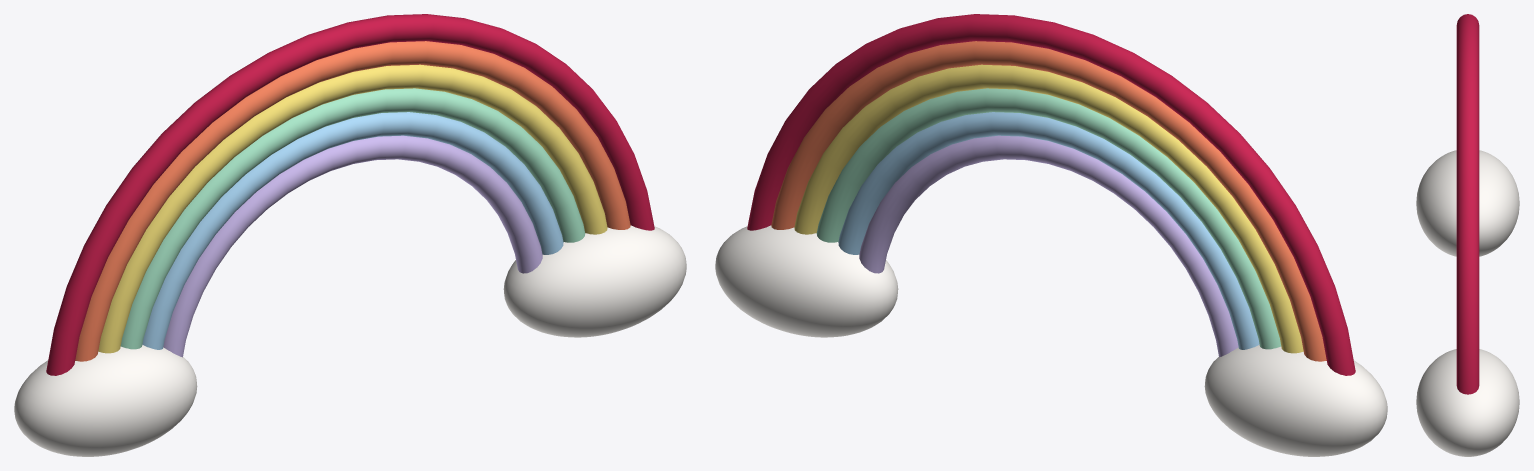
File: rainbow.glb
The picture shows the model from 3 angles, left to right: view 1: azimuth 30°, elevation 25°; view 2: azimuth 150°, elevation 25°; view 3: azimuth 270°, elevation 25°; orthographic projection. The views are drawn at different scales.
Visible parts, largest first — view 1: rainbow; view 2: rainbow; view 3: rainbow.
Boxes of the visible parts, x1,y1,x2,y2 form: rainbow: [14, 14, 686, 456]; rainbow: [715, 14, 1387, 456]; rainbow: [1416, 14, 1519, 456].
Size of the model in its own units: 13.52 by 7.13 by 2.2.
